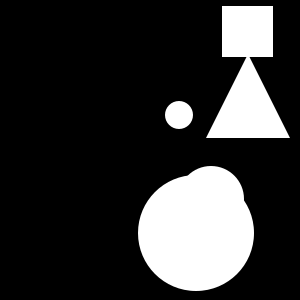circle: (222, 6, 273, 57)
rectangle: (138, 175, 254, 291), (178, 166, 244, 232), (165, 101, 193, 129)
triangle: (206, 54, 290, 138)
